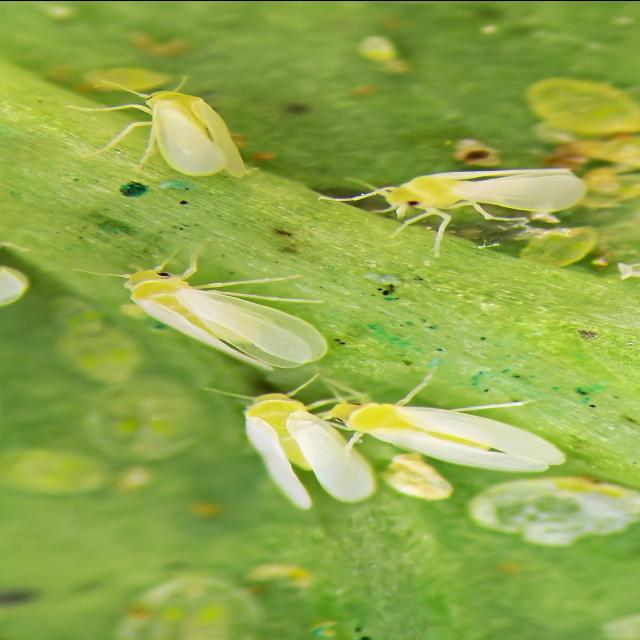whiteflies: (79, 260, 362, 370), (310, 378, 572, 473), (340, 158, 594, 246), (190, 388, 368, 508), (62, 72, 262, 174)
